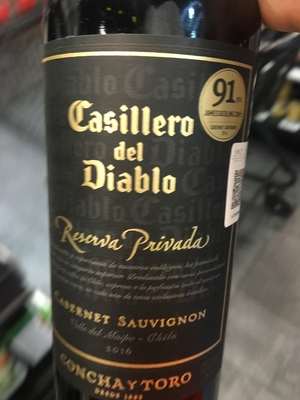casillero del diablo reserva privada cabernet sauvignon: (37, 4, 268, 400)
